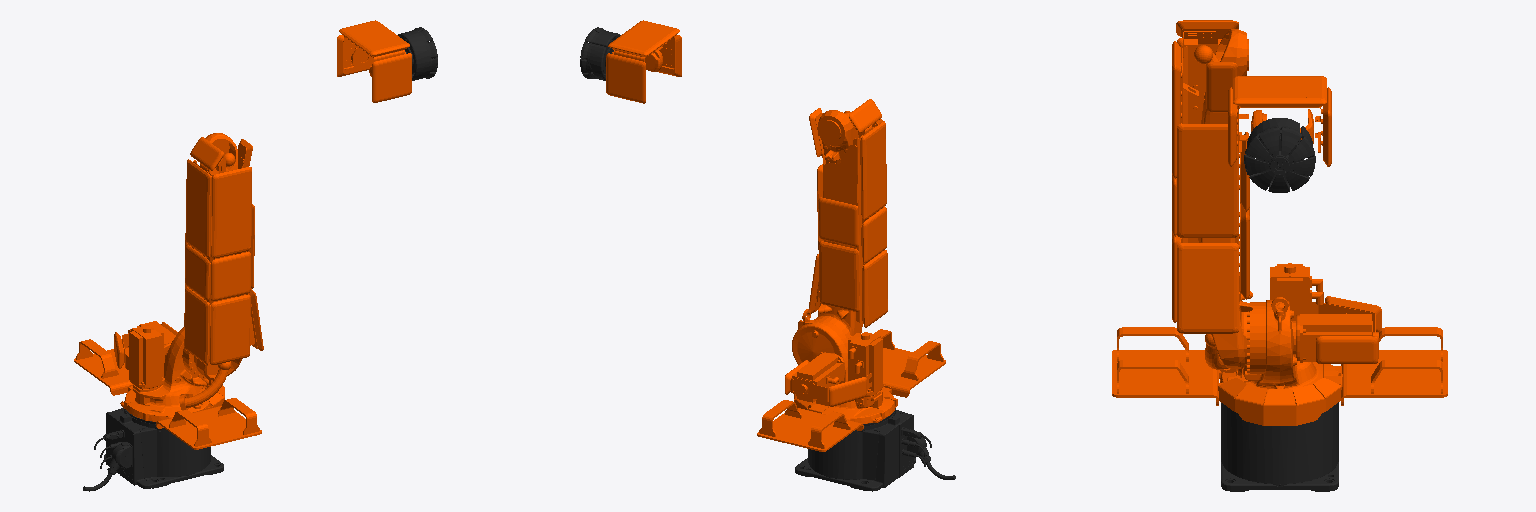
URDF robot description (kuka_kr_16_r2010_airskin_pa):
<?xml version="1.0"?>
<robot name="kuka_kr_16_r2010_airskin_pa">
  <material name="kuka_orange"><color rgba="1.00 0.40 0.00 1.0"/></material>
  <material name="kuka_dark_gray"><color rgba="0.20 0.20 0.20 1.0"/></material>

  <link name="base_link">
    <inertial>
      <origin xyz="-0.067857 -0.007268 0.135621" rpy="0 0 0"/>
      <mass value="28.444"/>
      <inertia ixx="0.405092" ixy="-0.029761" ixz="-0.002313" iyy="0.575879" iyz="-0.001385" izz="0.644823"/>
    </inertial>
    <visual>
      <origin xyz="0 0 0" rpy="0 0 0"/>
      <geometry><mesh filename="meshes/visual/base_link.stl"/></geometry>
      <material name="kuka_dark_gray"/>
    </visual>
    <collision>
      <origin xyz="0 0 0" rpy="0 0 0"/>
      <geometry><mesh filename="meshes/visual/base_link.stl"/></geometry>
    </collision>
  </link>

  <link name="link_1">
    <inertial>
      <origin xyz="0.030685 0.030490 0.393247" rpy="0 0 0"/>
      <mass value="37.333"/>
      <inertia ixx="1.508954" ixy="0.024652" ixz="-0.023694" iyy="0.510546" iyz="-0.052940" izz="1.581500"/>
    </inertial>
    <visual>
      <origin xyz="0 0 0" rpy="0 0 0"/>
      <geometry><mesh filename="meshes/visual/link_1.stl"/></geometry>
      <material name="kuka_orange"/>
    </visual>
    <collision>
      <origin xyz="0 0 0" rpy="0 0 0"/>
      <geometry><mesh filename="meshes/visual/link_1.stl"/></geometry>
    </collision>
  </link>

  <link name="link_2">
    <inertial>
      <origin xyz="-0.029293 -0.212540 0.505299" rpy="0 0 0"/>
      <mass value="46.222"/>
      <inertia ixx="2.409541" ixy="-0.011189" ixz="0.043287" iyy="2.418708" iyz="0.048779" izz="0.374704"/>
    </inertial>
    <visual>
      <origin xyz="0 0 0" rpy="0 0 0"/>
      <geometry><mesh filename="meshes/visual/link_2.stl"/></geometry>
      <material name="kuka_orange"/>
    </visual>
    <collision>
      <origin xyz="0 0 0" rpy="0 0 0"/>
      <geometry><mesh filename="meshes/visual/link_2.stl"/></geometry>
    </collision>
  </link>

  <link name="link_3">
    <inertial>
      <origin xyz="0.118573 -0.009833 0.094809" rpy="0 0 0"/>
      <mass value="35.556"/>
      <inertia ixx="0.840678" ixy="0.086369" ixz="-0.126614" iyy="1.543876" iyz="0.060023" izz="1.715451"/>
    </inertial>
    <visual>
      <origin xyz="0 0 0" rpy="0 0 0"/>
      <geometry><mesh filename="meshes/visual/link_3.stl"/></geometry>
      <material name="kuka_orange"/>
    </visual>
    <collision>
      <origin xyz="0 0 0" rpy="0 0 0"/>
      <geometry><mesh filename="meshes/visual/link_3.stl"/></geometry>
    </collision>
  </link>

  <link name="link_4">
    <inertial>
      <origin xyz="-0.214661 0.004063 -0.000076" rpy="0 0 0"/>
      <mass value="8.000"/>
      <inertia ixx="0.044106" ixy="-0.004246" ixz="-0.000160" iyy="0.142464" iyz="0.000014" izz="0.143332"/>
    </inertial>
    <visual>
      <origin xyz="0 0 0" rpy="0 0 0"/>
      <geometry><mesh filename="meshes/visual/link_4.stl"/></geometry>
      <material name="kuka_orange"/>
    </visual>
    <collision>
      <origin xyz="0 0 0" rpy="0 0 0"/>
      <geometry><mesh filename="meshes/visual/link_4.stl"/></geometry>
    </collision>
  </link>

  <link name="link_5">
    <inertial>
      <origin xyz="0.010330 0.002061 0.041390" rpy="0 0 0"/>
      <mass value="7.111"/>
      <inertia ixx="0.077434" ixy="0.000032" ixz="0.001837" iyy="0.038471" iyz="0.000378" izz="0.072468"/>
    </inertial>
    <visual>
      <origin xyz="0 0 0" rpy="0 0 0"/>
      <geometry><mesh filename="meshes/visual/link_5.stl"/></geometry>
      <material name="kuka_orange"/>
    </visual>
    <collision>
      <origin xyz="0 0 0" rpy="0 0 0"/>
      <geometry><mesh filename="meshes/visual/link_5.stl"/></geometry>
    </collision>
  </link>

  <link name="link_6">
    <inertial>
      <origin xyz="0.060536 0.000108 0.000628" rpy="0 0 0"/>
      <mass value="4.444"/>
      <inertia ixx="0.020307" ixy="-0.000011" ixz="0.000008" iyy="0.017033" iyz="0.000036" izz="0.017029"/>
    </inertial>
    <visual>
      <origin xyz="0 0 0" rpy="0 0 0"/>
      <geometry><mesh filename="meshes/visual/link_6.stl"/></geometry>
      <material name="kuka_dark_gray"/>
    </visual>
    <collision>
      <origin xyz="0 0 0" rpy="0 0 0"/>
      <geometry><mesh filename="meshes/visual/link_6.stl"/></geometry>
    </collision>
  </link>

  <link name="tool0"/>

  <joint name="joint_a1" type="revolute">
    <parent link="base_link"/>
    <child link="link_1"/>
    <origin xyz="0.000000 0.000000 0.000000" rpy="0 0 0"/>
    <axis xyz="0.0 0.0 -1.0"/>
    <limit lower="-3.228859" upper="3.228859" effort="1155.6" velocity="3.000000"/>
    <dynamics damping="5.0" friction="1.0"/>
  </joint>

  <joint name="joint_a2" type="revolute">
    <parent link="link_1"/>
    <child link="link_2"/>
    <origin xyz="0.160000 0.000000 0.520000" rpy="0 0 0"/>
    <axis xyz="0.0 1.0 0.0"/>
    <limit lower="-1.396263" upper="2.007129" effort="1333.3" velocity="3.000000"/>
    <dynamics damping="5.0" friction="1.0"/>
  </joint>

  <joint name="joint_a3" type="revolute">
    <parent link="link_2"/>
    <child link="link_3"/>
    <origin xyz="0.000000 0.000000 0.980000" rpy="0 0 0"/>
    <axis xyz="0.0 1.0 0.0"/>
    <limit lower="-1.832596" upper="1.413717" effort="888.9" velocity="3.000000"/>
    <dynamics damping="5.0" friction="1.0"/>
  </joint>

  <joint name="joint_a4" type="revolute">
    <parent link="link_3"/>
    <child link="link_4"/>
    <origin xyz="0.860000 0.000000 0.150000" rpy="0 0 0"/>
    <axis xyz="-1.0 0.0 -0.0"/>
    <limit lower="-4.799655" upper="3.839724" effort="355.6" velocity="3.000000"/>
    <dynamics damping="5.0" friction="1.0"/>
  </joint>

  <joint name="joint_a5" type="revolute">
    <parent link="link_4"/>
    <child link="link_5"/>
    <origin xyz="0.000000 0.000000 0.000000" rpy="0 0 0"/>
    <axis xyz="0.0 1.0 0.0"/>
    <limit lower="-0.069813" upper="1.762783" effort="248.9" velocity="3.000000"/>
    <dynamics damping="5.0" friction="1.0"/>
  </joint>

  <joint name="joint_a6" type="revolute">
    <parent link="link_5"/>
    <child link="link_6"/>
    <origin xyz="0.153000 0.000000 0.000000" rpy="0 0 0"/>
    <axis xyz="-1.0 0.0 -0.0"/>
    <limit lower="-6.108652" upper="6.108652" effort="151.1" velocity="3.000000"/>
    <dynamics damping="5.0" friction="1.0"/>
  </joint>

  <joint name="link_6-tool0" type="fixed">
    <parent link="link_6"/>
    <child link="tool0"/>
    <origin xyz="0.000000 0.000000 0.000000" rpy="0 1.57079632679 0"/>
  </joint>
</robot>

--- Render facts (derived) ---
3 views of the same robot in one strip: view 1: azimuth 30°, elevation 25°; view 2: azimuth 150°, elevation 25°; view 3: azimuth 270°, elevation 25° (orthographic).
Robot: kuka_kr_16_r2010_airskin_pa — 8 links, 7 joints (6 revolute, 1 fixed); root link base_link; default pose: every joint at zero.
Links seen in each view (by area): view 1: link_2, link_1, base_link, link_5, link_6; view 2: link_2, link_1, base_link, link_5, link_6; view 3: link_1, link_2, base_link, link_5, link_6.
Boxes of the visible links, <box> form: link_2: <box>184,133,263,385</box>; link_1: <box>74,321,261,449</box>; base_link: <box>83,408,223,491</box>; link_5: <box>337,20,411,102</box>; link_6: <box>398,27,437,80</box>; link_2: <box>809,99,887,335</box>; link_1: <box>757,309,945,451</box>; base_link: <box>795,408,955,491</box>; link_5: <box>606,20,681,103</box>; link_6: <box>580,27,620,80</box>; link_1: <box>1112,263,1447,425</box>; link_2: <box>1172,20,1252,376</box>; base_link: <box>1221,402,1338,491</box>; link_5: <box>1228,76,1331,166</box>; link_6: <box>1244,118,1315,192</box>.
Size in the robot's own frame: 1.78 by 1.05 by 1.79 metres.
Meshes: 7 distinct files referenced, 5 mesh visuals loaded (5 binary STL); not drawn: 2 (reference not matched to a file when rendering).
